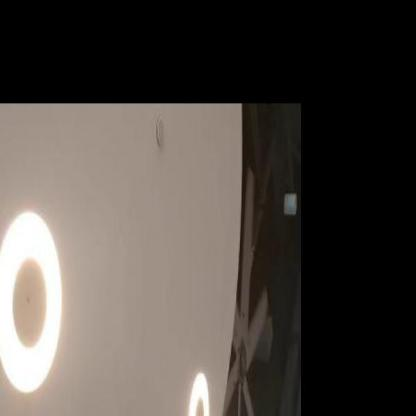light_on: (0, 178, 72, 415), (176, 352, 221, 415)
